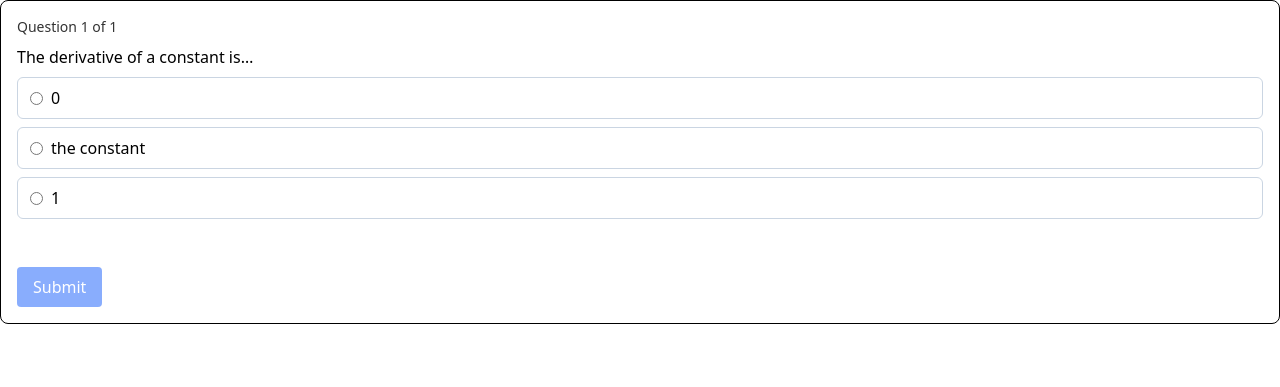
attempt recording (FR-QUIZ-003, §5.5, NFR-REL-001) › completes without recording when no LessonContext is present (tests/storybook)
Step 1. Click the radio button labelled "0" → (36, 98), box [30,92,43,104]
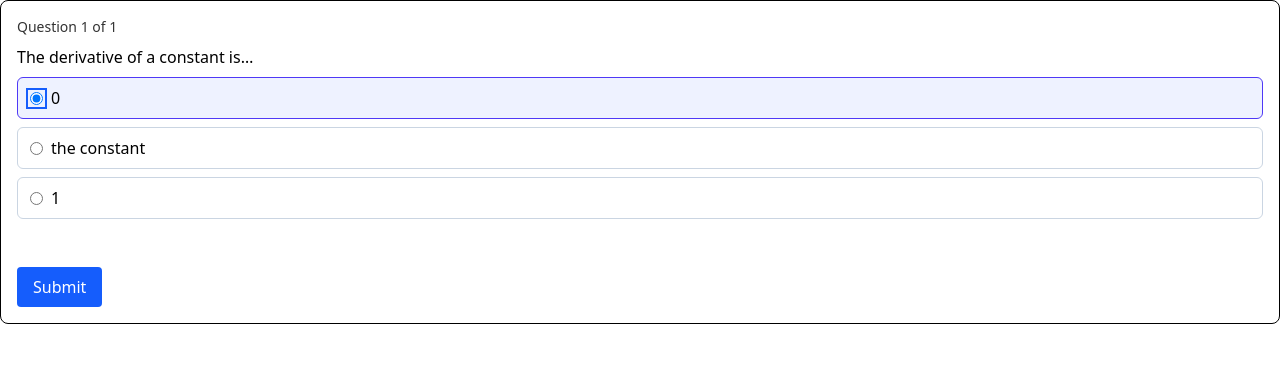
Step 2. Click the button "Submit" → (60, 287), box [17,267,102,307]
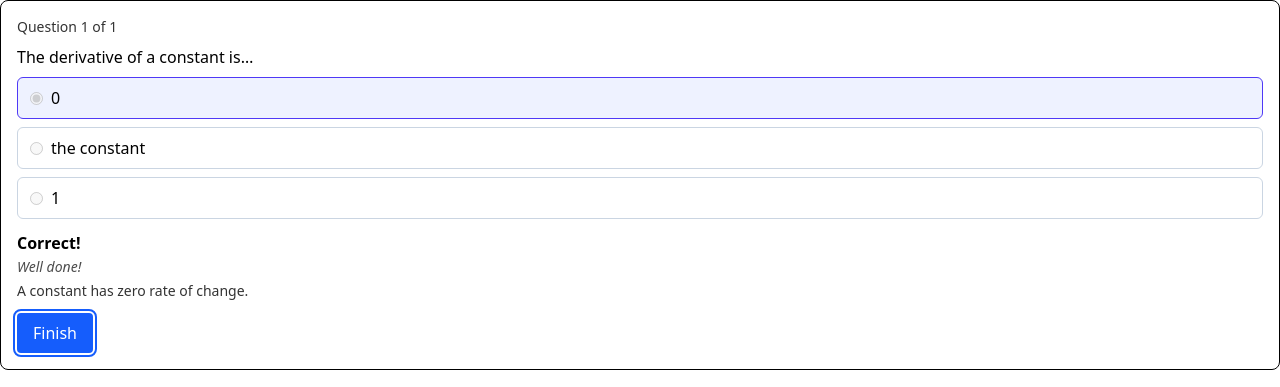
Step 3. Click the button "Finish" → (55, 333), box [17,313,93,353]
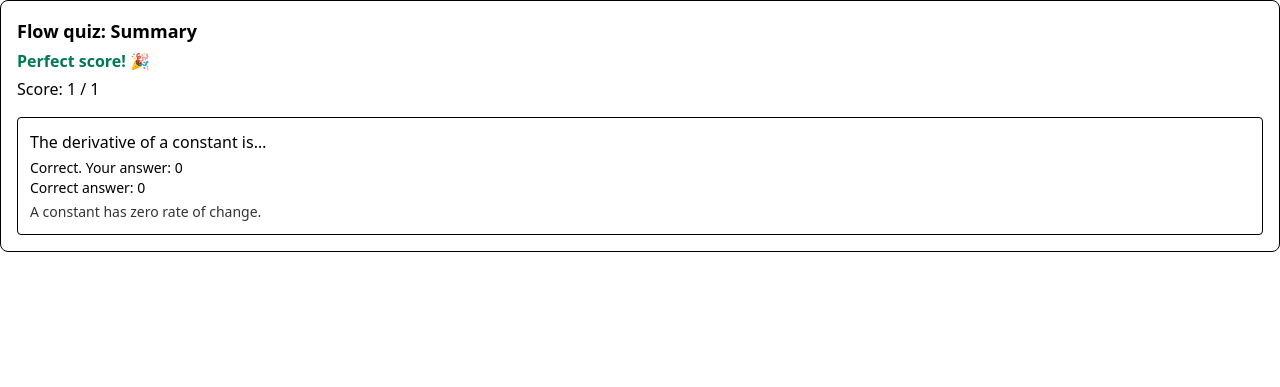
expect the text "Score: 1 / 1" is shown: met, box [17,78,100,100]
